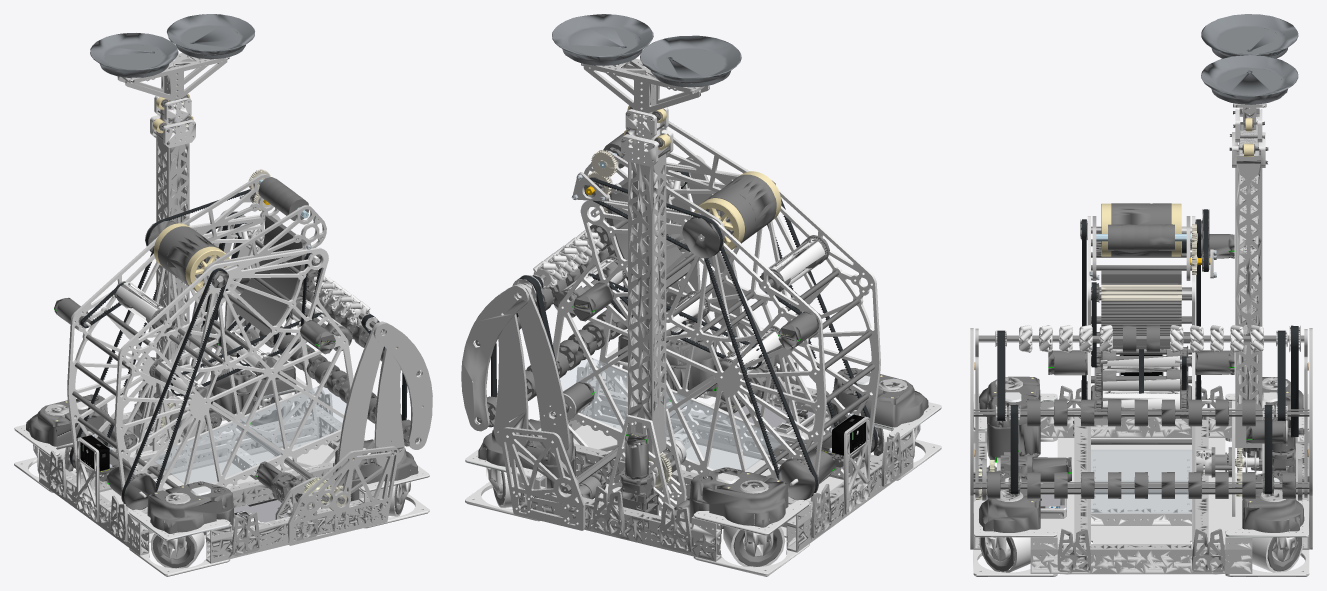
Rendered from hero-constantine-1318.glb.
The picture shows the model from 3 angles, left to right: view 1: azimuth 30°, elevation 25°; view 2: azimuth 150°, elevation 25°; view 3: azimuth 270°, elevation 25°; orthographic projection. The views are drawn at different scales.
Visible parts, largest first — view 1: frame, intake, hood, climb-top, intake-fixed, intake-links, climb-mid, flywheel; view 2: frame, intake, climb-top, climb-mid, intake-links, intake-fixed, hood, flywheel; view 3: frame, intake, climb-top, hood, climb-mid, intake-fixed, flywheel, intake-links.
Part boxes in pixels (x1,y1,x2,y2): frame: [14, 53, 429, 576]; intake: [200, 209, 432, 505]; hood: [182, 174, 326, 335]; climb-top: [90, 14, 254, 147]; intake-fixed: [134, 320, 399, 545]; intake-links: [189, 226, 404, 468]; climb-mid: [156, 129, 189, 399]; flywheel: [154, 223, 229, 294]; frame: [465, 58, 941, 576]; intake: [461, 155, 776, 493]; climb-top: [552, 14, 741, 166]; climb-mid: [628, 145, 666, 457]; intake-links: [493, 158, 742, 453]; intake-fixed: [500, 291, 801, 530]; hood: [584, 121, 749, 288]; flywheel: [694, 171, 781, 252]; frame: [973, 103, 1309, 576]; intake: [970, 325, 1312, 498]; climb-top: [1201, 14, 1298, 167]; hood: [1092, 216, 1190, 349]; climb-mid: [1235, 144, 1262, 447]; intake-fixed: [970, 420, 1312, 549]; flywheel: [1101, 203, 1181, 256]; intake-links: [975, 328, 1307, 498].
Size of the model in its own units: 0.6464 by 0.9548 by 0.6477.
